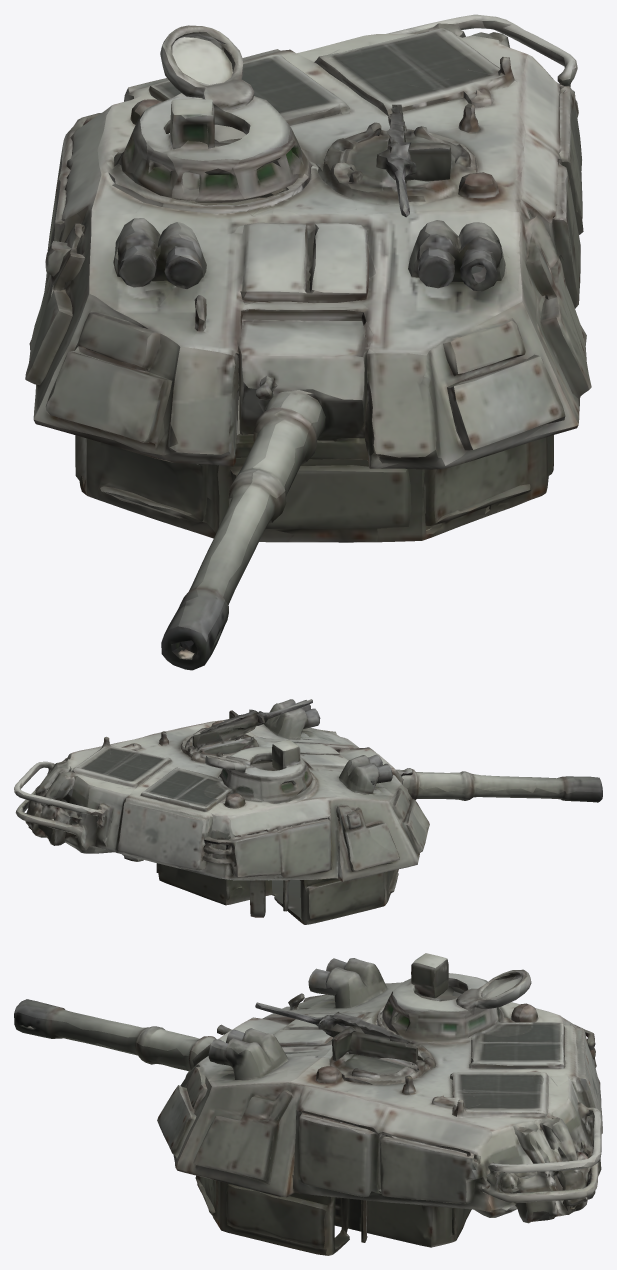
File: heavy_turret_v5.glb
The picture shows the model from 3 angles, top to bottom: view 1: azimuth 30°, elevation 25°; view 2: azimuth 150°, elevation 25°; view 3: azimuth 270°, elevation 25°; orthographic projection. The views are drawn at different scales.
Visible parts, largest first — view 1: geometry_0; view 2: geometry_0; view 3: geometry_0.
Boxes of the visible parts, x1,y1,x2,y2 form: geometry_0: (25,14,591,670); geometry_0: (14,699,602,924); geometry_0: (14,953,602,1255).
Bounding box in the file's own units: 4.5 × 1.84 × 4.52.
1 material, 1 textured.
